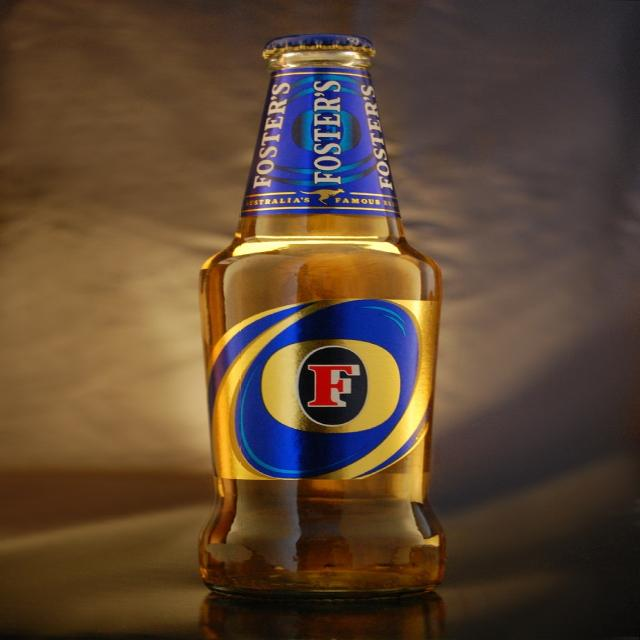fosters: (258, 338, 406, 435)
